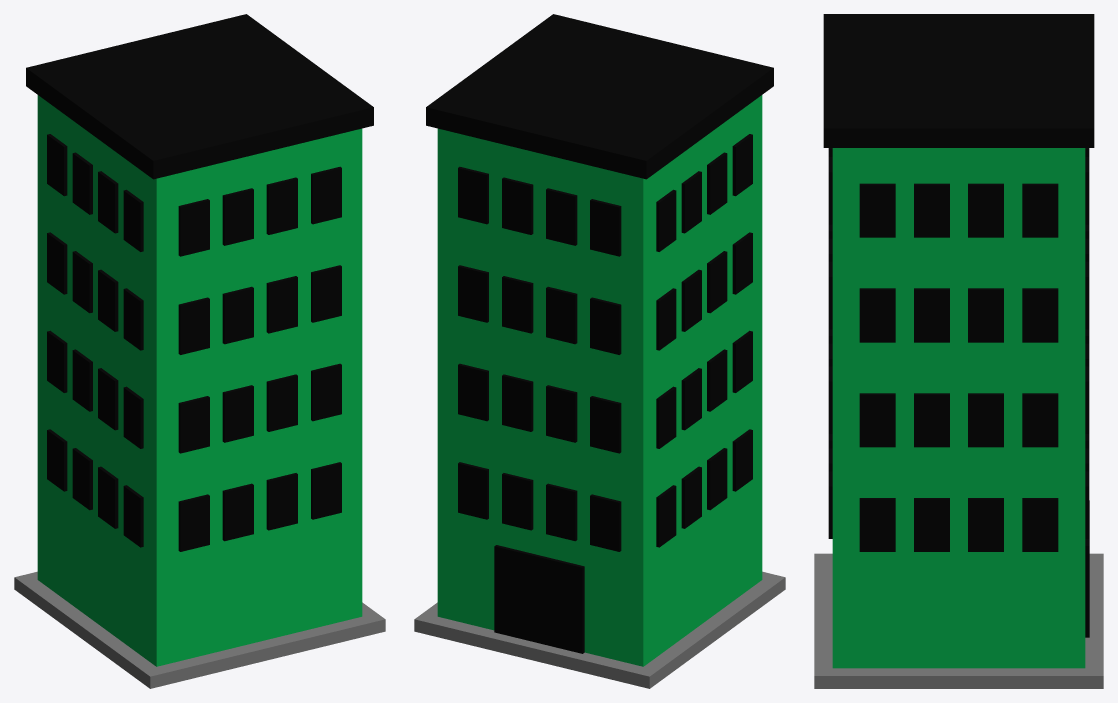
The model's file is High building.fbx.
3 views of the same model, side by side, from view 1: azimuth 30°, elevation 25°; view 2: azimuth 150°, elevation 25°; view 3: azimuth 270°, elevation 25° (orthographic). The views are drawn at different scales.
Parts seen in each view (by area): view 1: Plane.001; view 2: Plane.001; view 3: Plane.001.
Boxes of the visible parts, x1=… form: Plane.001: x1=14, y1=14, x2=385, y2=688; Plane.001: x1=414, y1=14, x2=785, y2=688; Plane.001: x1=814, y1=14, x2=1103, y2=688.
Bounding box in the file's own units: 400 × 850 × 400.
